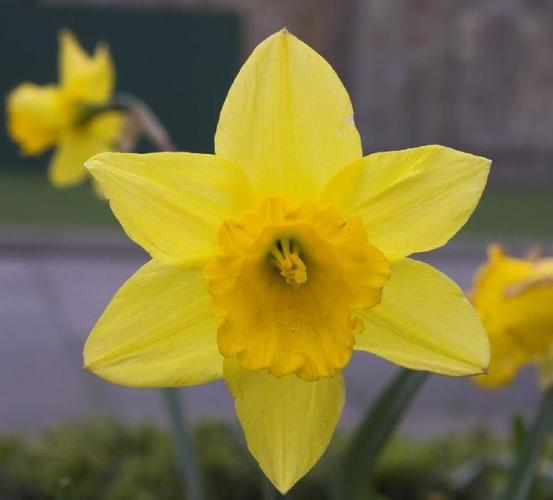flower1: (81, 25, 494, 495)
